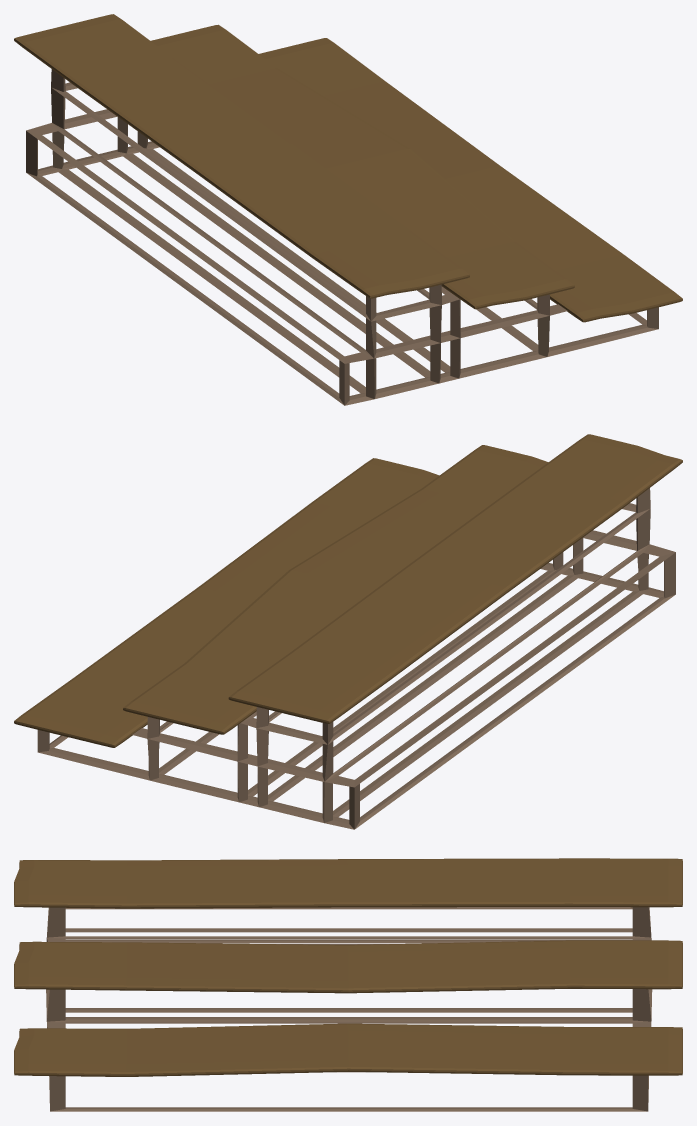
The model's file is escaleras.fbx.
The picture shows the model from 3 angles, top to bottom: view 1: azimuth 30°, elevation 25°; view 2: azimuth 150°, elevation 25°; view 3: azimuth 270°, elevation 25°; orthographic projection. The views are drawn at different scales.
Visible parts, largest first — view 1: Cube; view 2: Cube; view 3: Cube.
Boxes of the visible parts, left/top/right/bottom form: Cube: left=14, top=14, right=682, bottom=405; Cube: left=14, top=434, right=682, bottom=829; Cube: left=14, top=858, right=682, bottom=1111.
Size of the model in its own units: 1.78 by 0.638 by 3.42.
